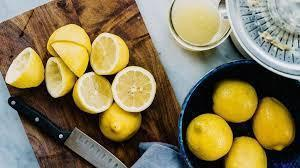lemon: (254, 97, 294, 151), (186, 114, 232, 160), (112, 66, 156, 113), (212, 80, 258, 122), (99, 102, 142, 142), (4, 47, 44, 88), (90, 33, 129, 75), (73, 72, 112, 114), (48, 24, 91, 58), (225, 136, 267, 168), (51, 42, 88, 78), (46, 56, 76, 98)
